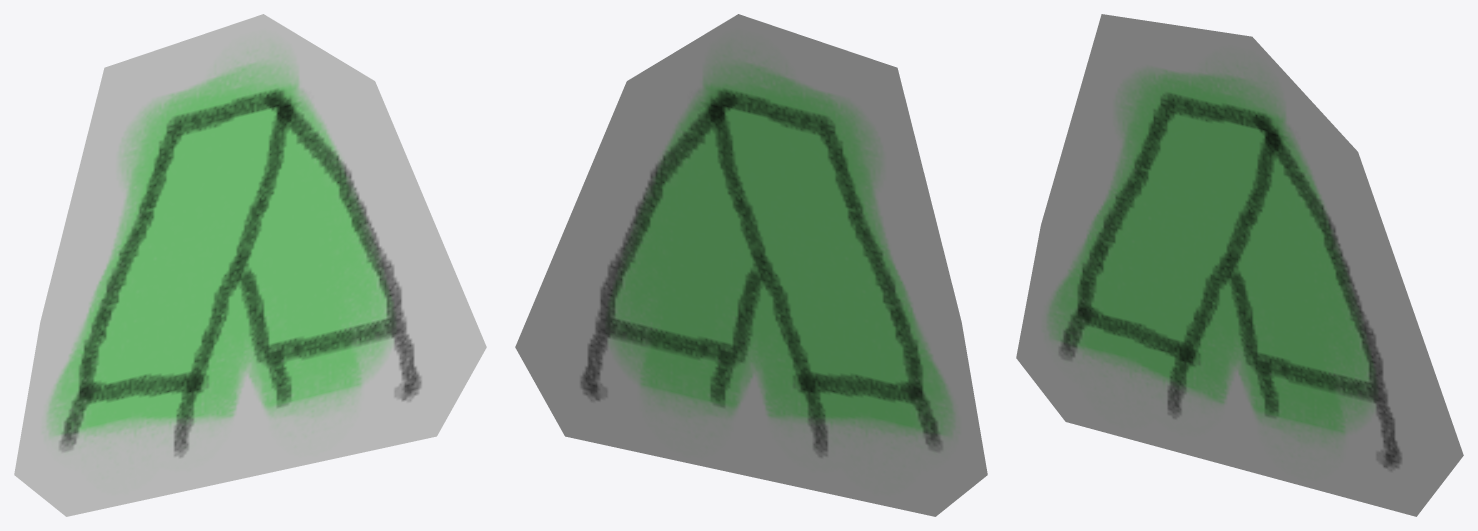
The model's file is Skylt.fbx.
3 renders of one model, left to right at view 1: azimuth 30°, elevation 25°; view 2: azimuth 150°, elevation 25°; view 3: azimuth 330°, elevation 25°, orthographic. The views are drawn at different scales.
Parts seen in each view (by area): view 1: Plane.023; view 2: Plane.023; view 3: Plane.023.
Part boxes in pixels (x1,y1,x2,y2): Plane.023: (14, 14, 486, 516); Plane.023: (515, 14, 987, 516); Plane.023: (1016, 14, 1463, 516).
Bounding box in the file's own units: 34.38 × 32.31 × 5.26e-06.
1 material, 1 textured.
